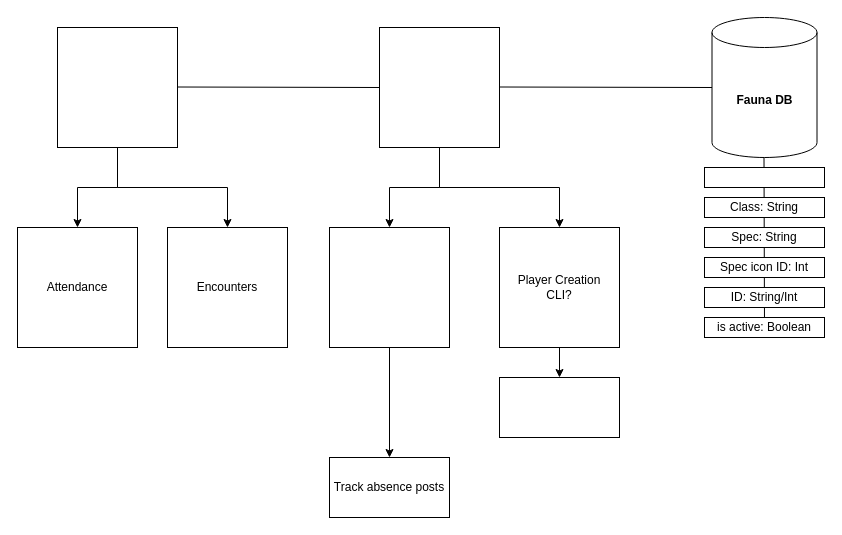
Image size: 842x535. Some labels were removed from this diagram. The box of each missing label's shape, as (x1, y1, x2, y2) in pixels:
API: (378, 26, 500, 148)
Discord bot: (328, 226, 450, 348)
Enter name: String select class Select main spec: (498, 376, 620, 438)
Frontend: (56, 26, 178, 148)
Player name: String: (704, 166, 824, 188)
